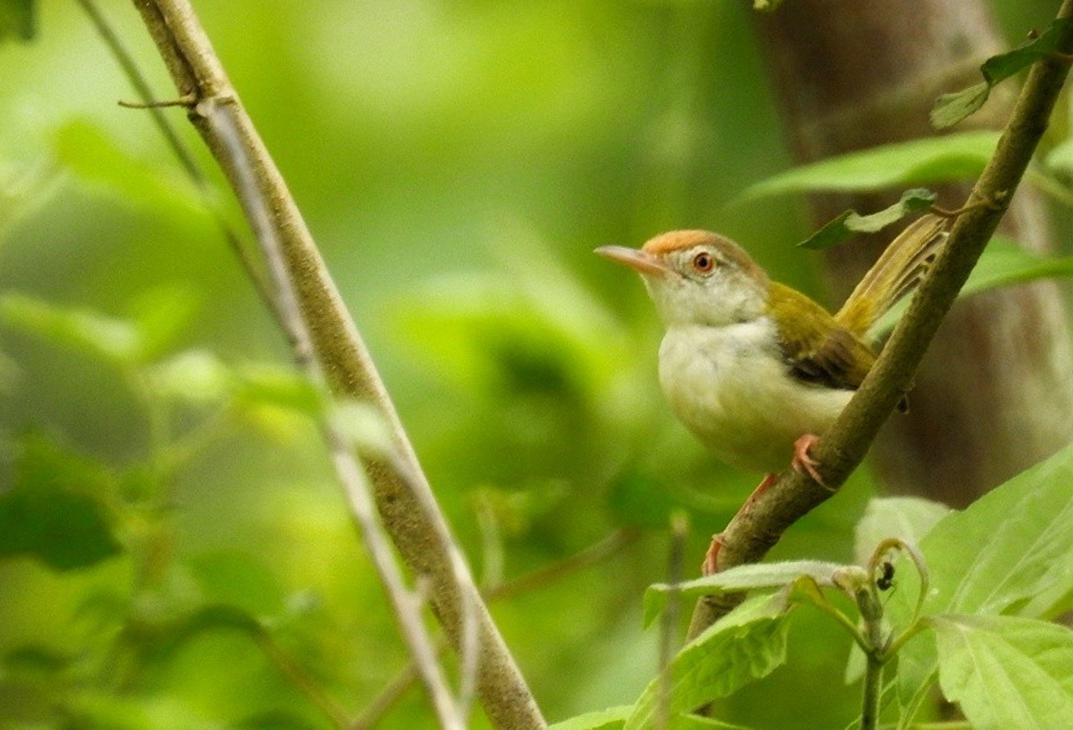tailorbird: (629, 175, 952, 495)
